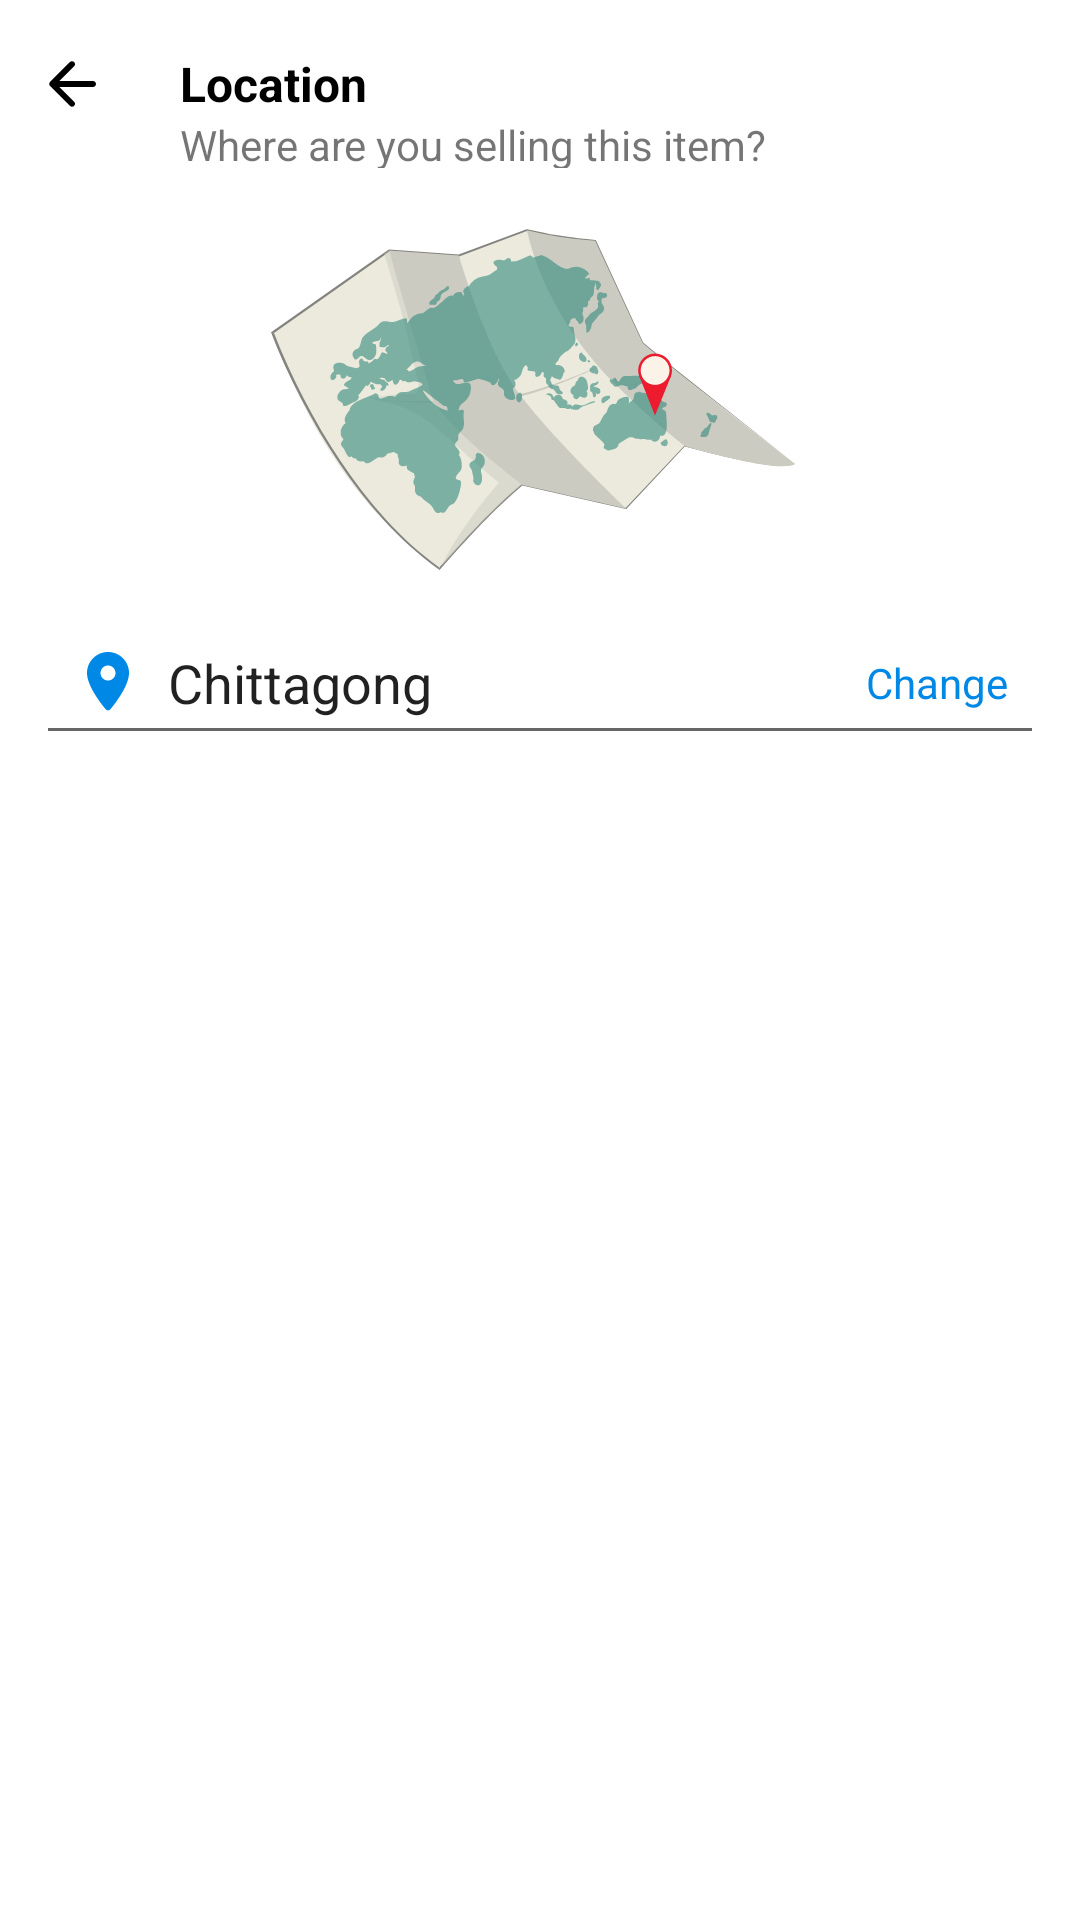

Where to tap for icons on this 1080x1920 app screen, as point (x, y):
arrow back: point (72, 84)
